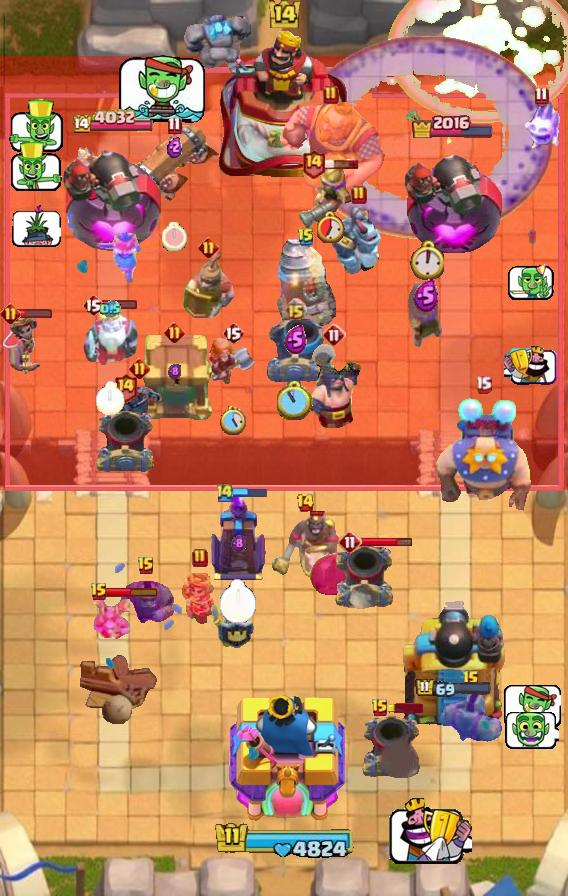bar: (106, 586, 159, 598), (360, 537, 413, 548), (323, 158, 359, 170), (233, 486, 268, 498), (17, 308, 53, 319), (102, 299, 138, 310), (387, 703, 423, 713)
bar-level: (113, 372, 138, 403), (301, 148, 326, 179), (338, 530, 362, 554), (322, 323, 346, 347), (284, 298, 307, 321), (222, 321, 244, 345), (82, 293, 104, 317), (129, 358, 150, 379), (164, 322, 185, 343), (0, 303, 21, 324), (198, 237, 219, 258), (215, 482, 235, 503), (296, 493, 315, 513), (371, 698, 389, 718), (462, 670, 480, 690), (90, 582, 108, 602), (137, 556, 155, 576), (297, 227, 315, 247), (475, 375, 492, 394), (192, 548, 208, 568), (351, 185, 367, 205), (323, 85, 339, 105), (167, 116, 182, 135), (534, 86, 549, 105)
bomb: (307, 547, 359, 601)
cannoneer-tower: (397, 595, 509, 731), (63, 136, 165, 256), (403, 138, 503, 256)
clock: (219, 579, 257, 624), (409, 239, 444, 280), (277, 381, 313, 420), (96, 381, 125, 415), (317, 210, 345, 243), (220, 406, 246, 435), (162, 222, 187, 251)
elixir: (413, 279, 439, 312), (284, 325, 307, 354), (100, 300, 121, 318), (167, 136, 182, 158), (231, 534, 246, 553), (168, 363, 181, 380)
emote: (116, 54, 206, 126), (388, 797, 472, 864), (7, 99, 65, 155), (9, 141, 64, 194), (502, 683, 561, 731), (504, 710, 559, 751), (11, 203, 61, 248), (504, 345, 558, 386), (508, 261, 555, 302)
executioner: (305, 343, 363, 429)
goblin-brawler: (437, 694, 505, 750), (116, 577, 176, 631)
golemite: (180, 10, 252, 78)
guard: (211, 589, 255, 649)
ice-spirit-evolution: (521, 101, 561, 151)
king-tower: (218, 27, 350, 181), (223, 689, 345, 826)
king-tower-bar: (210, 820, 358, 862)
little-prince: (1, 310, 45, 378), (181, 573, 219, 625)
mega-minion: (329, 205, 389, 275)
mini-pekka: (114, 375, 164, 429)
minion: (90, 592, 132, 640)
mortar: (332, 544, 396, 610), (360, 713, 422, 781), (94, 408, 156, 476), (265, 318, 325, 382)
musketeer: (298, 160, 356, 230), (407, 281, 445, 347)
royal-ghost: (82, 302, 138, 368)
royal-recruit: (181, 250, 235, 320)
tower-bar: (73, 109, 156, 136), (411, 112, 495, 138), (415, 678, 492, 699)
valkyrie: (95, 231, 143, 285), (208, 338, 258, 386)
